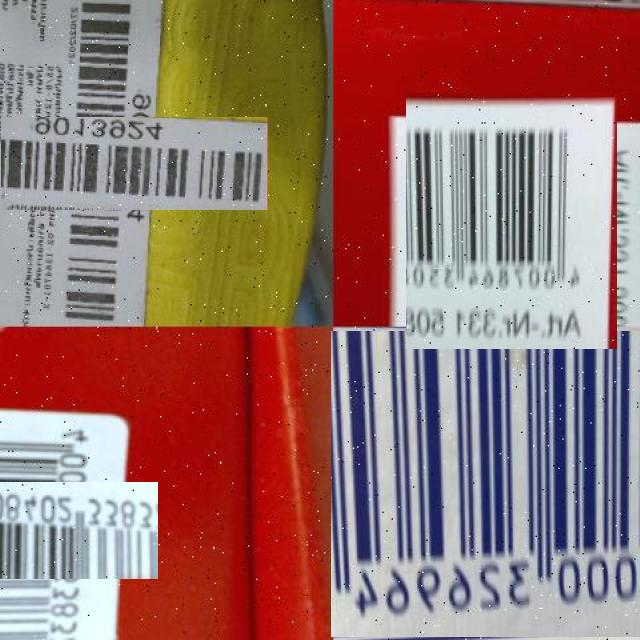Barcode: (333, 329, 640, 639), (395, 104, 629, 338), (0, 59, 210, 269), (0, 452, 128, 610)
